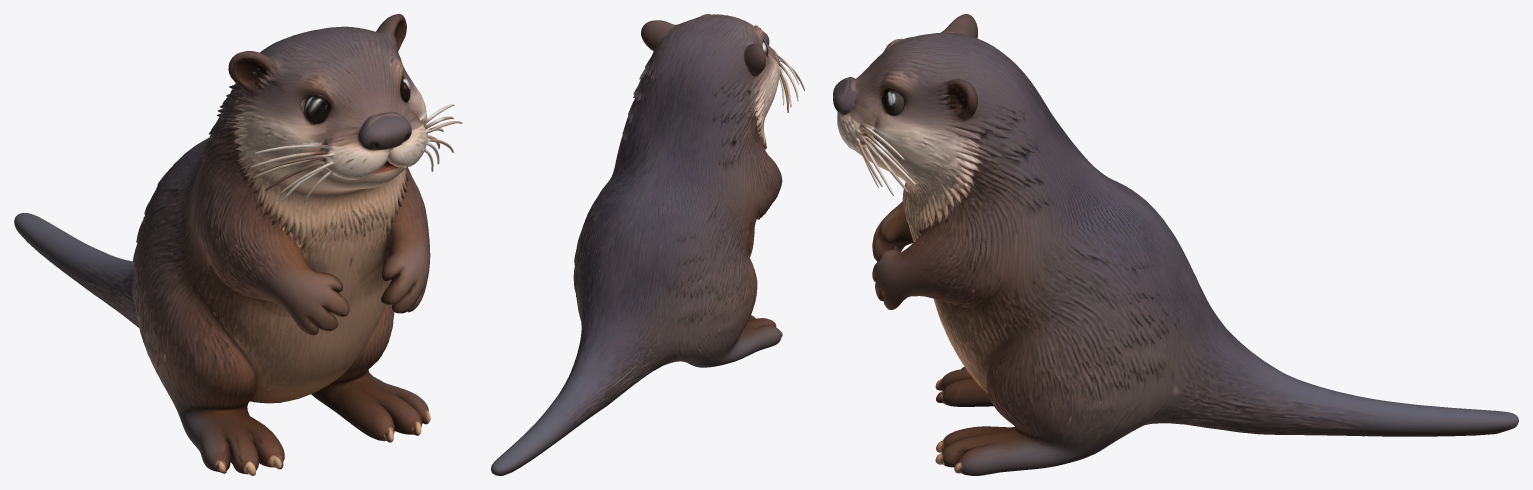
The model's file is nutria_galactica.glb.
The picture shows the model from 3 angles, left to right: view 1: azimuth 30°, elevation 25°; view 2: azimuth 150°, elevation 25°; view 3: azimuth 270°, elevation 25°; orthographic projection. The views are drawn at different scales.
Parts seen in each view (by area): view 1: node_0; view 2: node_0; view 3: node_0.
Boxes of the visible parts, left/top/right/bottom form: node_0: left=14, top=14, right=462, bottom=475; node_0: left=491, top=14, right=804, bottom=475; node_0: left=833, top=14, right=1518, bottom=475.
Size of the model in its own units: 0.3594 by 0.6496 by 1.03.
1 material, 1 textured.
